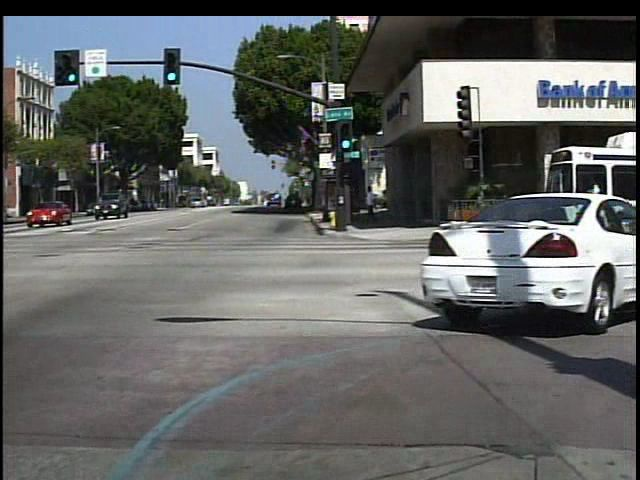person: (362, 181, 383, 225)
